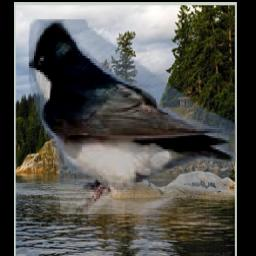Swallow: (29, 19, 236, 214)
